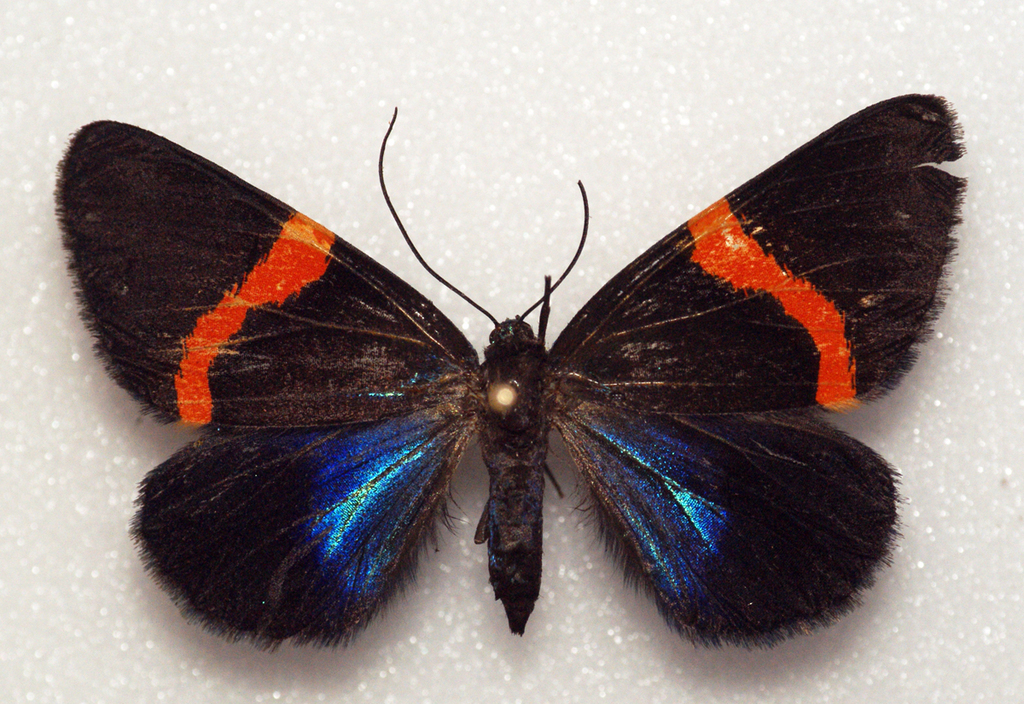Butterfly: (40, 86, 973, 677)
